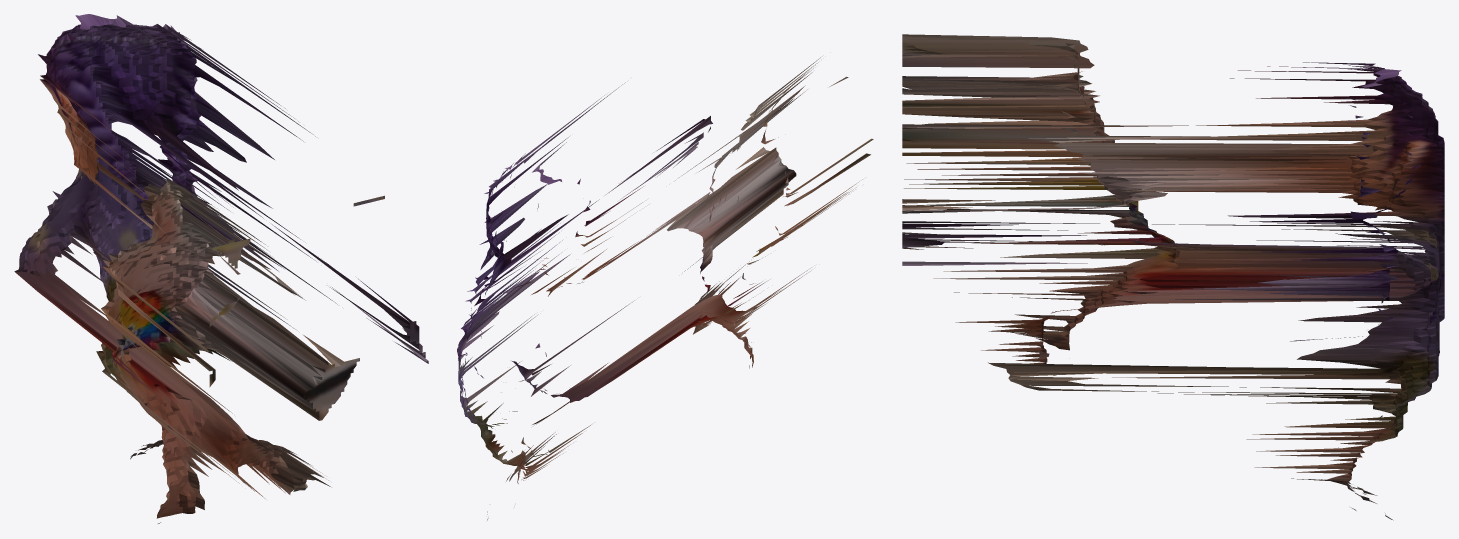
File: frame_00279.glb
3 renders of one model, left to right at view 1: azimuth 30°, elevation 25°; view 2: azimuth 150°, elevation 25°; view 3: azimuth 270°, elevation 25°, orthographic. The views are drawn at different scales.
Visible parts, largest first — view 1: geometry_0; view 2: geometry_0; view 3: geometry_0.
Boxes of the visible parts, <box> form: geometry_0: <box>14,14,428,523</box>; geometry_0: <box>457,57,873,520</box>; geometry_0: <box>902,34,1444,520</box>.
Size of the model in its own units: 0.0832 by 0.1365 by 0.16.
Materials: 1 (1 with a texture image).
